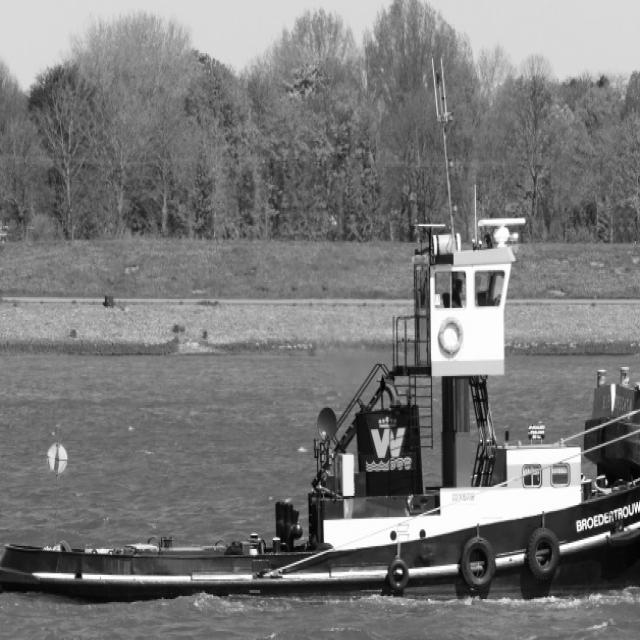tugboat: (1, 212, 640, 614)
